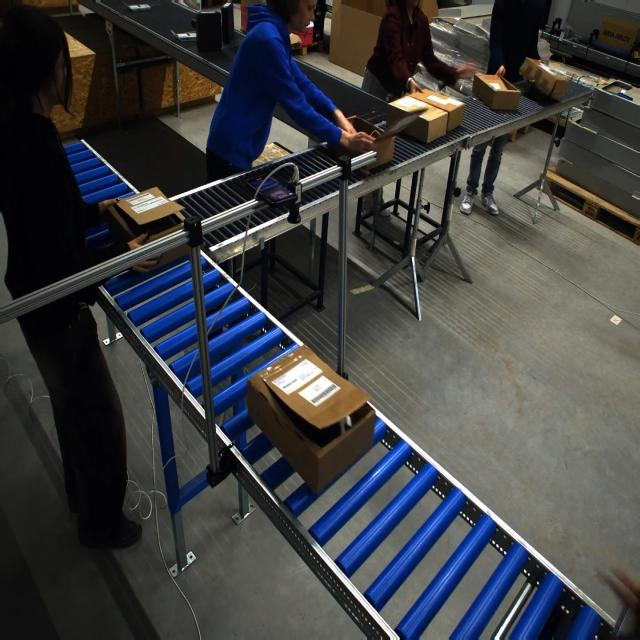box: (246, 351, 367, 492), (105, 187, 191, 263), (413, 74, 471, 130), (343, 115, 393, 172), (390, 95, 448, 143), (517, 57, 570, 99), (471, 72, 520, 111)
product: (171, 29, 196, 41), (125, 3, 151, 12)
